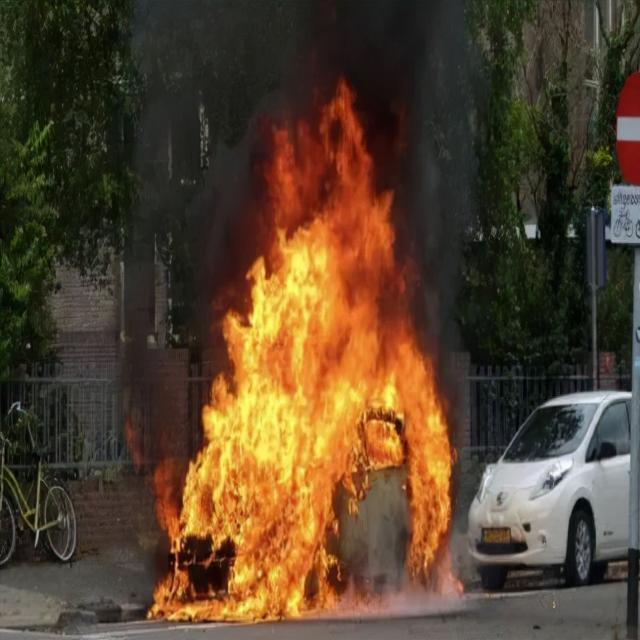Fire: (148, 86, 453, 622)
